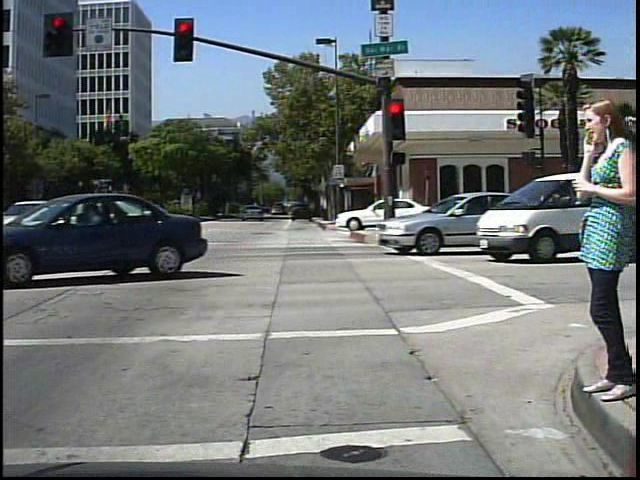person: (568, 85, 636, 412)
